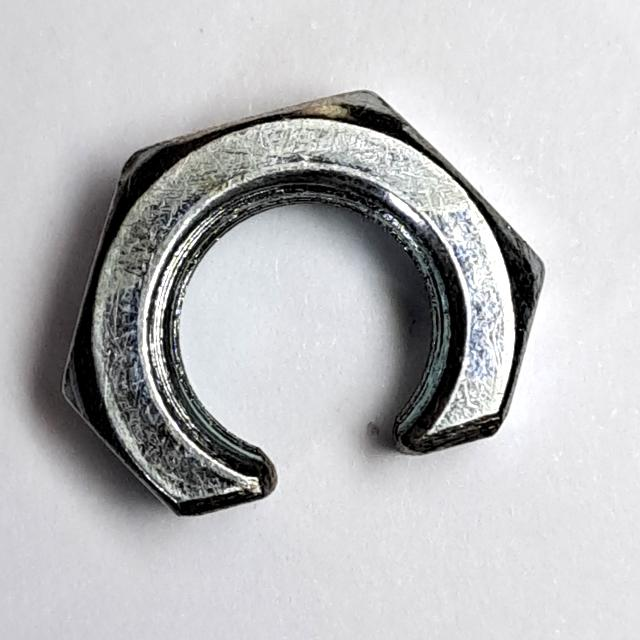Fracture: (42, 81, 556, 533)
